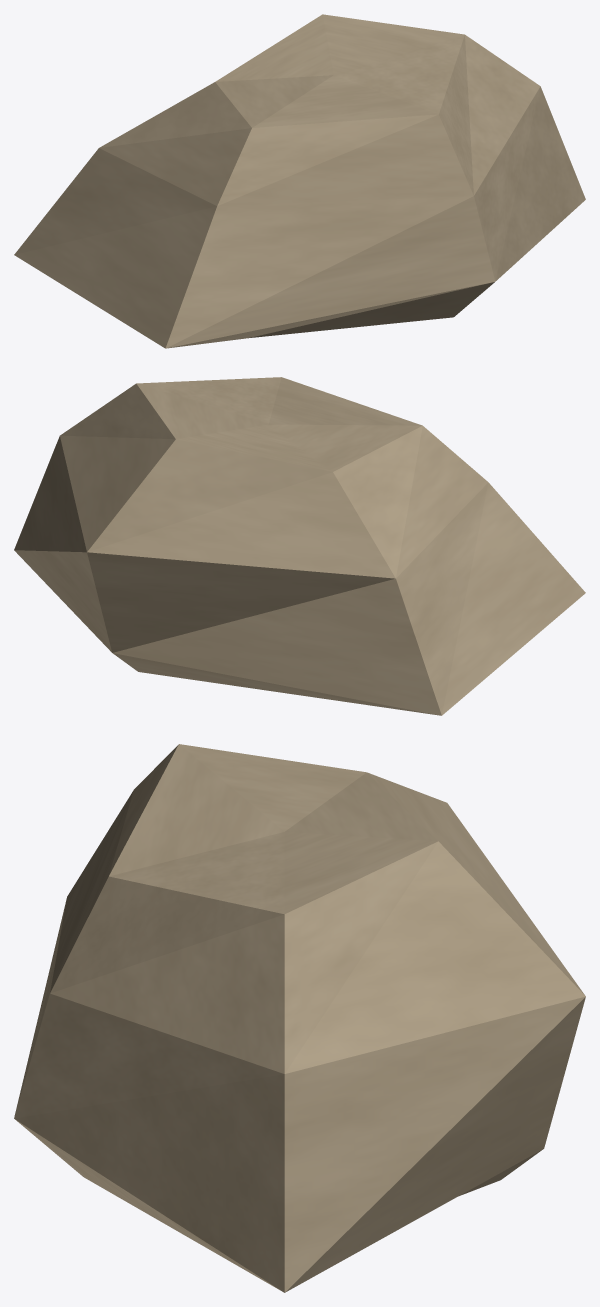
Rendered from SM_CN_Caliche_B_LOD2.glb.
3 views of the same model, one above another, from view 1: azimuth 30°, elevation 25°; view 2: azimuth 150°, elevation 25°; view 3: azimuth 270°, elevation 25° (orthographic). The views are drawn at different scales.
Parts seen in each view (by area): view 1: SM_CN_Caliche_B_LOD2; view 2: SM_CN_Caliche_B_LOD2; view 3: SM_CN_Caliche_B_LOD2.
Part boxes in pixels (box(x1,y1,x2,y2)): SM_CN_Caliche_B_LOD2: box(14, 14, 585, 348); SM_CN_Caliche_B_LOD2: box(14, 377, 585, 715); SM_CN_Caliche_B_LOD2: box(14, 744, 585, 1292).
Bounding box in the file's own units: 0.88 × 0.37 × 0.5867.
1 material, 1 textured.
